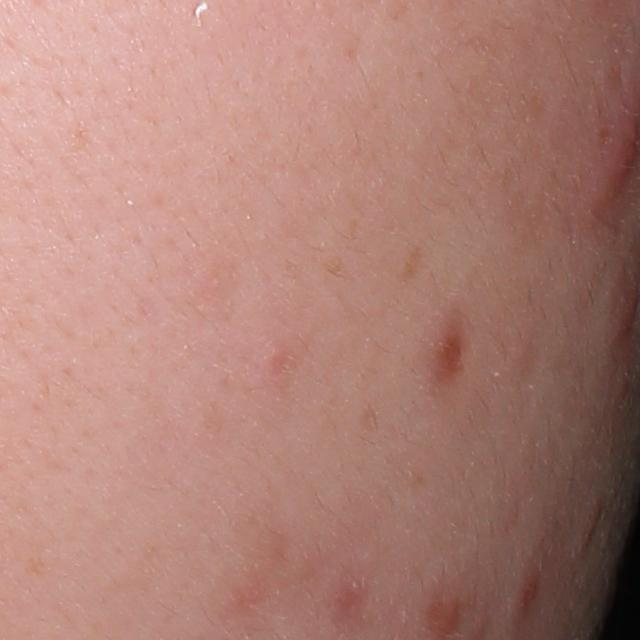papule: (411, 315, 473, 386), (507, 572, 541, 620), (615, 287, 640, 342)
